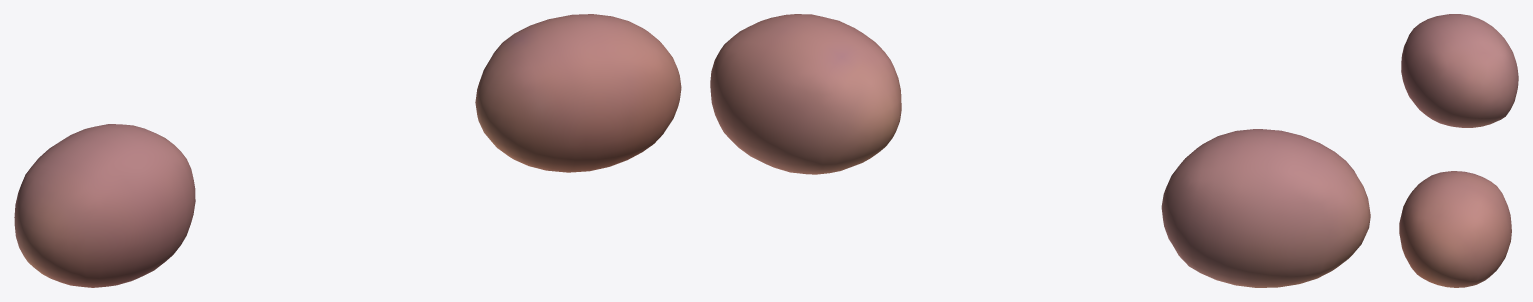
Rendered from Ovarium.fbx.
The picture shows the model from 3 angles, left to right: view 1: azimuth 30°, elevation 25°; view 2: azimuth 150°, elevation 25°; view 3: azimuth 270°, elevation 25°; orthographic projection. The views are drawn at different scales.
Visible parts, largest first — view 1: Ovarium; view 2: Ovarium; view 3: Ovarium.
Boxes of the visible parts, <box> form: Ovarium: <box>14,14,681,287</box>; Ovarium: <box>710,14,1370,287</box>; Ovarium: <box>1399,14,1518,287</box>.
Bounding box in the file's own units: 4.94 × 1.03 × 1.13.
1 material, 1 textured.
